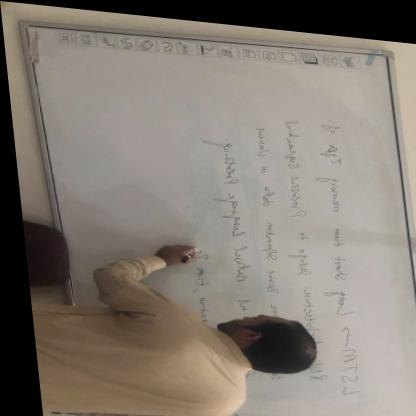Handwritten text: (305, 106, 373, 398), (195, 125, 257, 307), (242, 116, 286, 311), (272, 104, 313, 274), (175, 237, 216, 322)
Lecturer: (32, 278, 323, 416)
Whiteboard: (20, 22, 416, 416)
